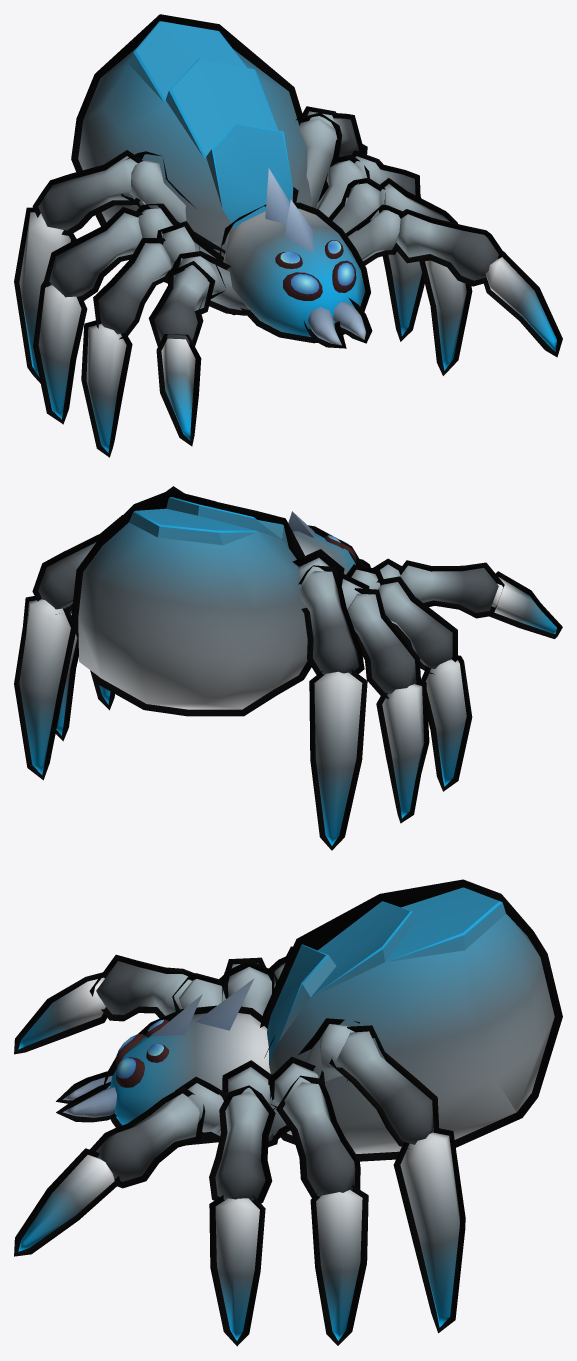
The model's file is SpiderBlue.fbx.
3 views of the same model, one above another, from view 1: azimuth 30°, elevation 25°; view 2: azimuth 150°, elevation 25°; view 3: azimuth 270°, elevation 25° (orthographic). The views are drawn at different scales.
Visible parts, largest first — view 1: Spider.002, Spider.001, Spider.005, Spider.003, Spider.004, Spider.006, Circle.004, Circle.008; view 2: Spider.001, Spider.002, Spider.005, Spider.004, Spider.003; view 3: Spider.002, Spider.001, Spider.005, Spider.003, Spider.004, Circle.004, Circle.008, Spider.006.
Boxes of the visible parts, <box> form: Spider.002: <box>19,111,556,452</box>; Spider.001: <box>78,21,311,244</box>; Spider.005: <box>14,106,562,457</box>; Spider.003: <box>223,168,365,336</box>; Spider.004: <box>71,14,304,283</box>; Spider.006: <box>218,202,370,343</box>; Circle.004: <box>308,302,365,345</box>; Circle.008: <box>304,298,372,348</box>; Spider.001: <box>78,497,307,709</box>; Spider.002: <box>19,542,556,845</box>; Spider.005: <box>14,486,562,850</box>; Spider.004: <box>71,490,311,716</box>; Spider.003: <box>268,511,356,574</box>; Spider.002: <box>18,961,459,1340</box>; Spider.001: <box>267,887,554,1153</box>; Spider.005: <box>14,946,465,1346</box>; Spider.003: <box>110,978,270,1125</box>; Spider.004: <box>260,879,562,1161</box>; Circle.004: <box>63,1075,116,1117</box>; Circle.008: <box>56,1070,116,1122</box>; Spider.006: <box>102,1005,269,1145</box>.
Size of the model in its own units: 202 by 156 by 215.
